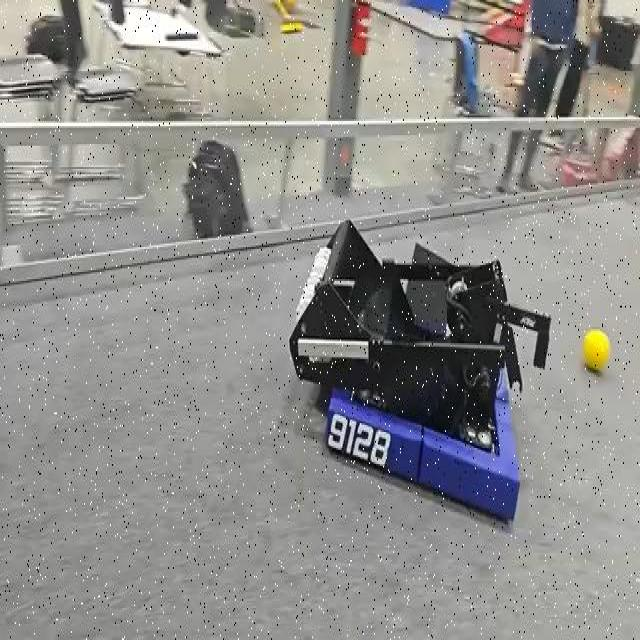Fuel: (583, 329, 609, 370)
